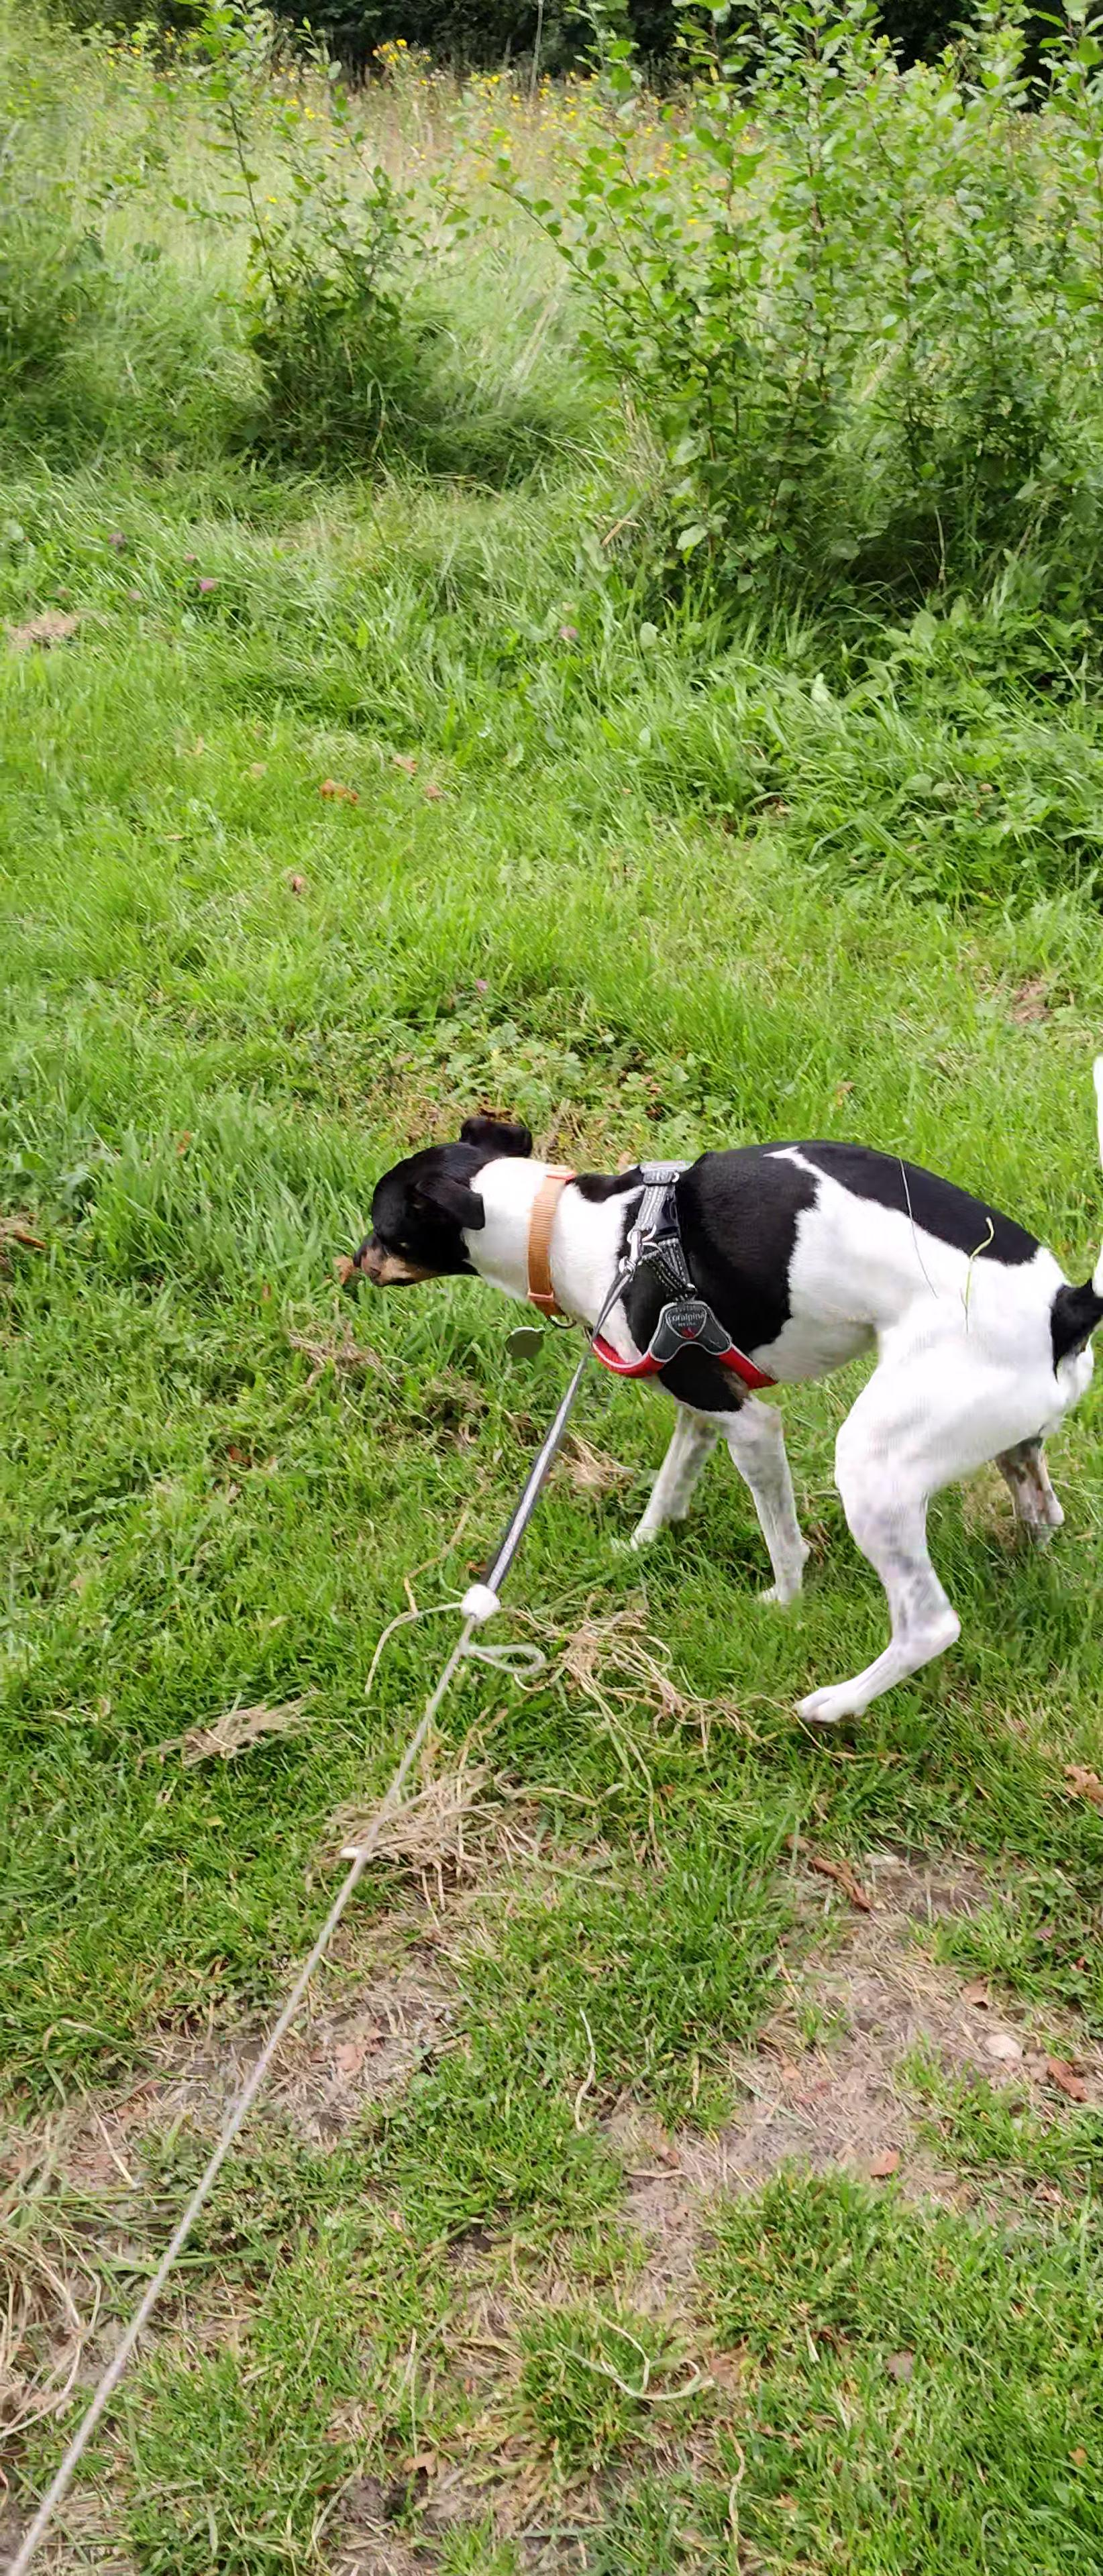Dog: (344, 1043, 1103, 1728)
